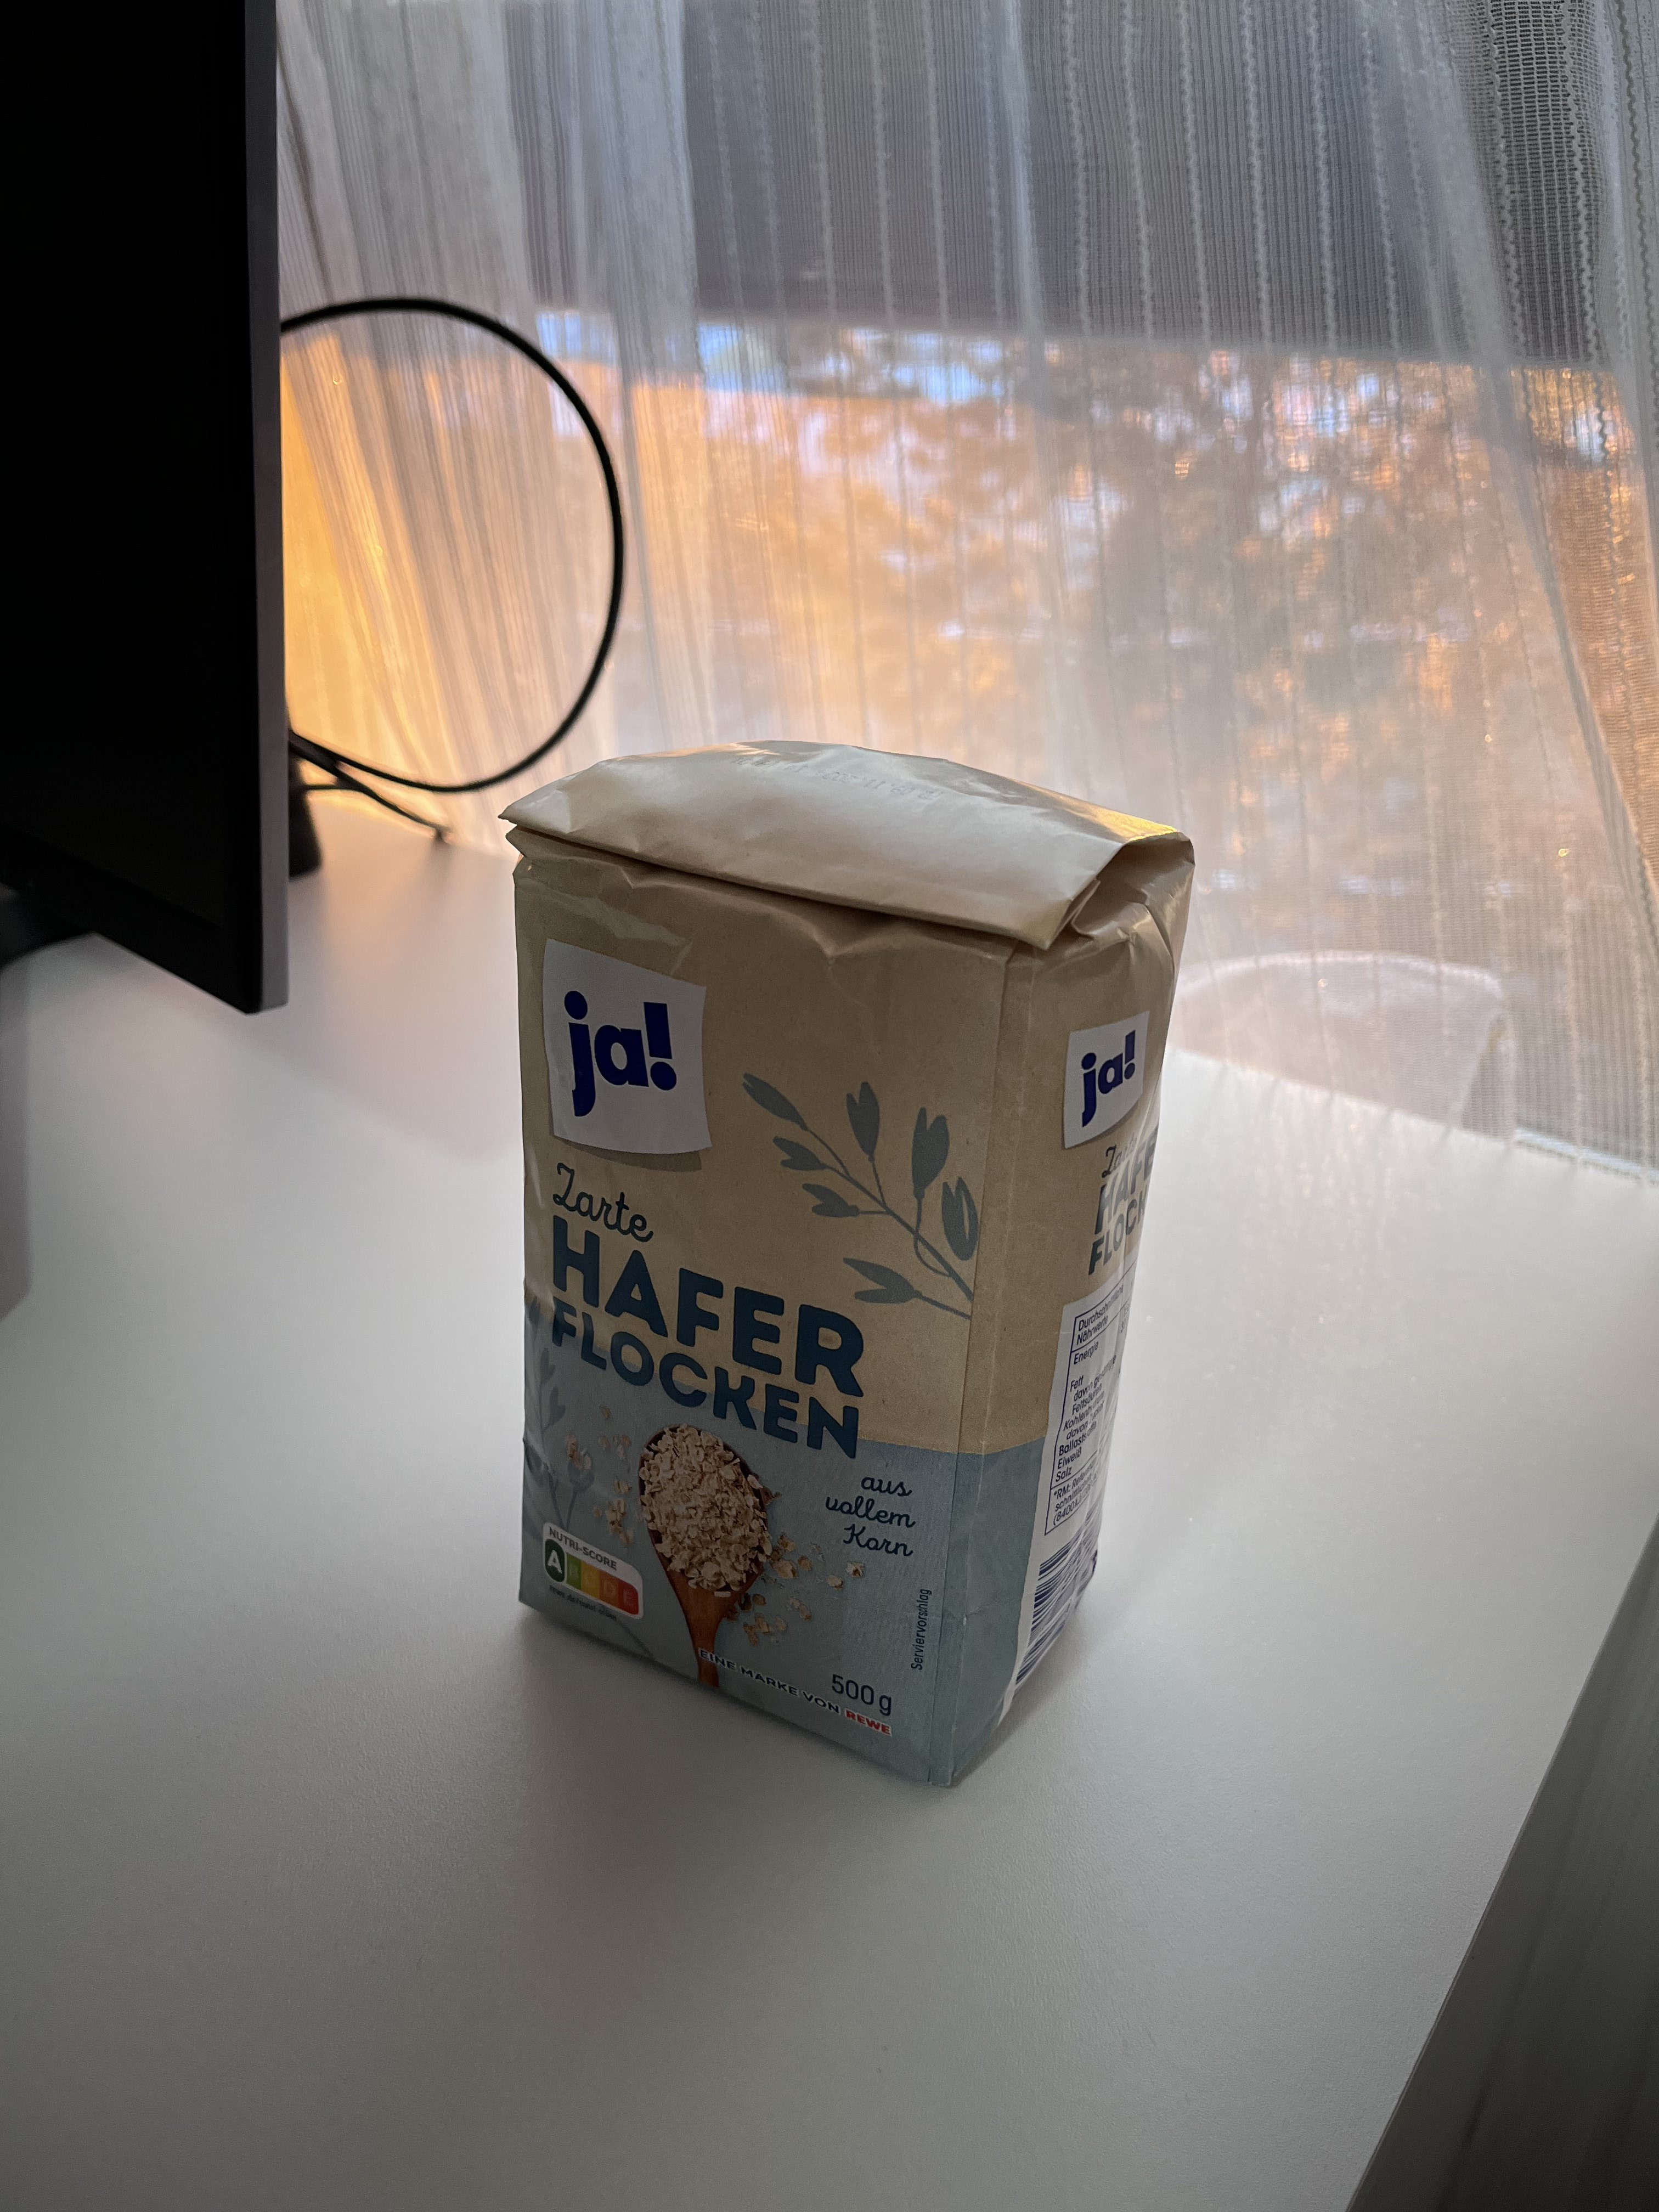haferflocken_ja: (498, 737, 1192, 1796)
